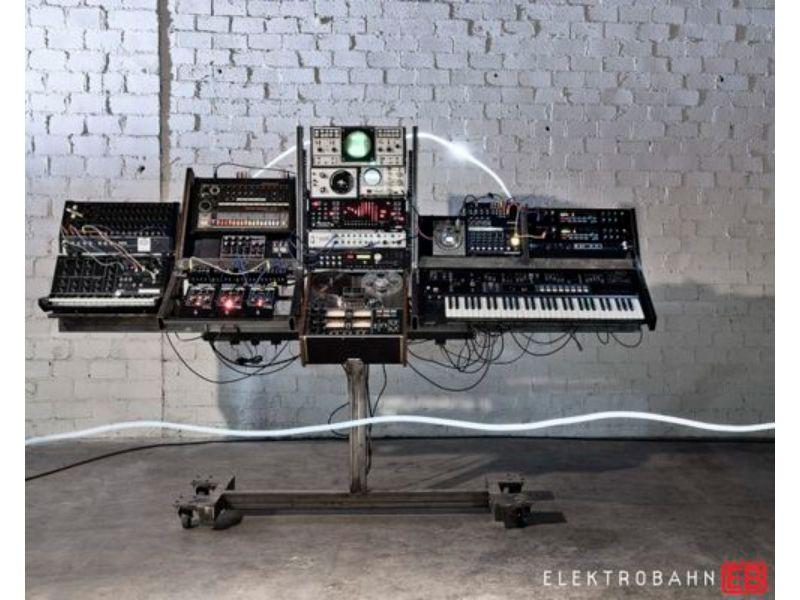synthesizer: (407, 264, 659, 332)
